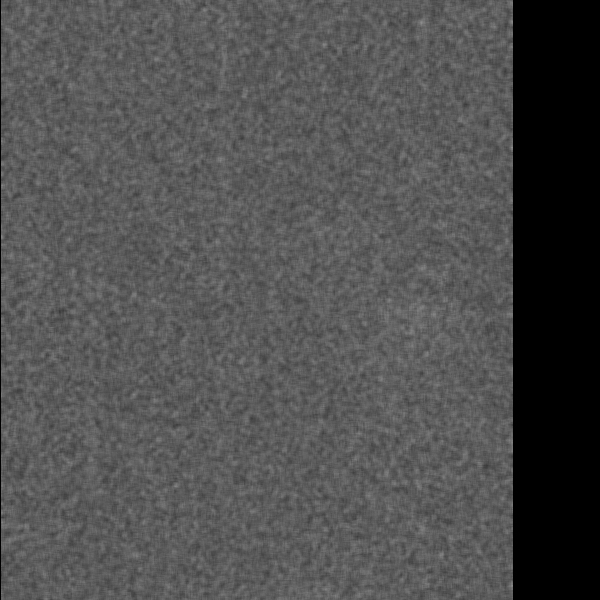spark: (355, 301, 393, 325)
